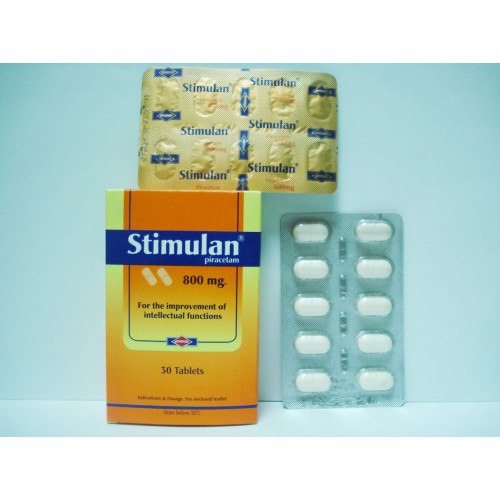Medicine: (96, 186, 267, 434), (139, 63, 346, 194)
